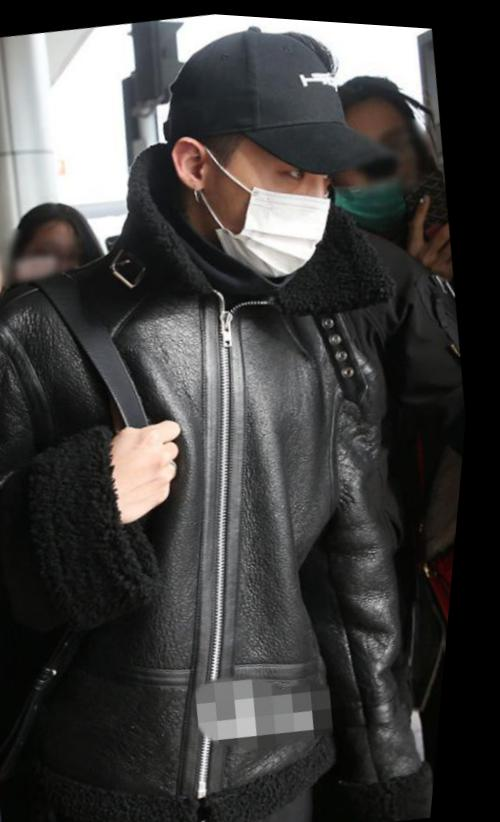OK: (211, 137, 359, 282)
WRONG: (326, 112, 439, 232)
